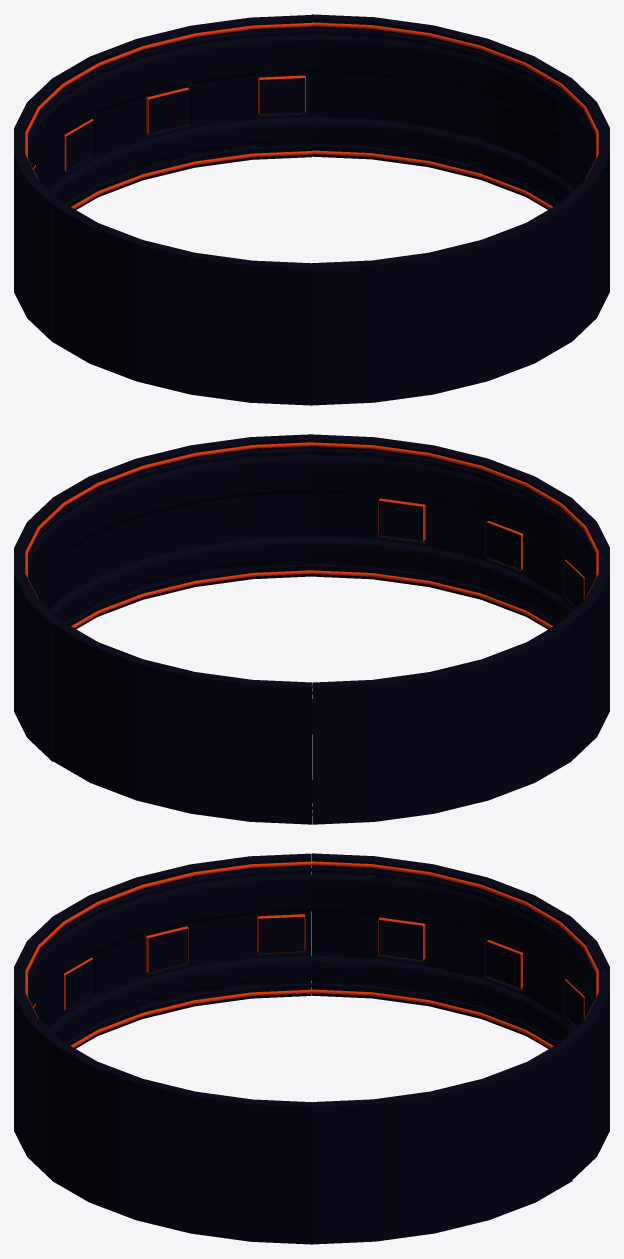
Rendered from robots room 1.fbx.
The picture shows the model from 3 angles, top to bottom: view 1: azimuth 30°, elevation 25°; view 2: azimuth 150°, elevation 25°; view 3: azimuth 270°, elevation 25°; orthographic projection.
Parts seen in each view (by area): view 1: pPipe5, pPipe9, pPipe11, pPipe3, pPipe12, pPipe10; view 2: pPipe10, pPipe11, pPipe12, pPipe9, pPipe3, pPipe5; view 3: pPipe12, pPipe3, pPipe5, pPipe10, pPipe11, pPipe9.
Part boxes in pixels (box(x1,y1,x2,y2)): pPipe5: box(53, 202, 312, 405); pPipe9: box(312, 202, 570, 405); pPipe11: box(53, 15, 312, 209); pPipe3: box(311, 14, 570, 209); pPipe12: box(556, 77, 609, 342); pPipe10: box(14, 78, 67, 342); pPipe10: box(312, 622, 571, 824); pPipe11: box(53, 621, 312, 824); pPipe12: box(52, 434, 312, 629); pPipe9: box(311, 434, 570, 629); pPipe3: box(14, 498, 67, 761); pPipe5: box(557, 497, 609, 760); pPipe12: box(52, 1041, 312, 1244); pPipe3: box(313, 1041, 572, 1244); pPipe5: box(52, 853, 312, 1048); pPipe10: box(311, 853, 570, 1048); pPipe11: box(556, 917, 609, 1179); pPipe9: box(14, 917, 67, 1179).
Bounding box in the file's own units: 56 × 14.16 × 55.6.
